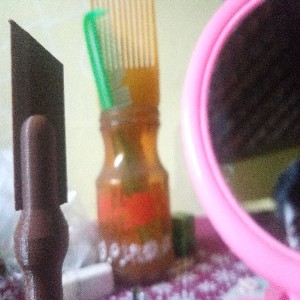cutter: (7, 18, 71, 300)
